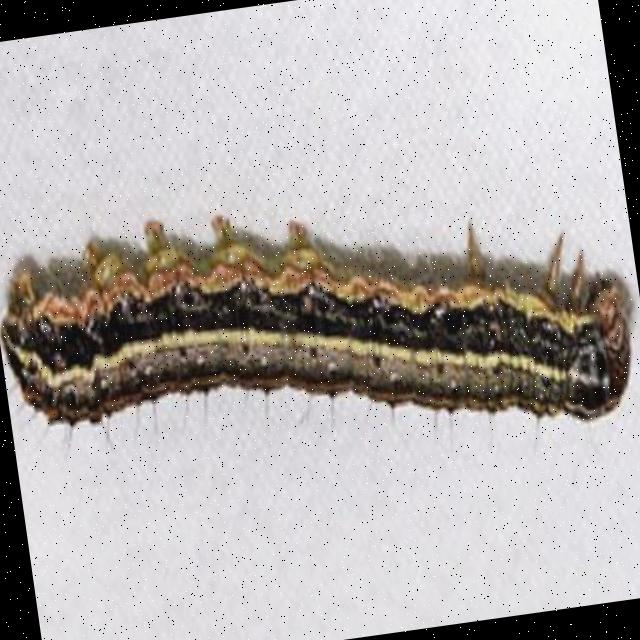worm: (1, 158, 640, 506)
